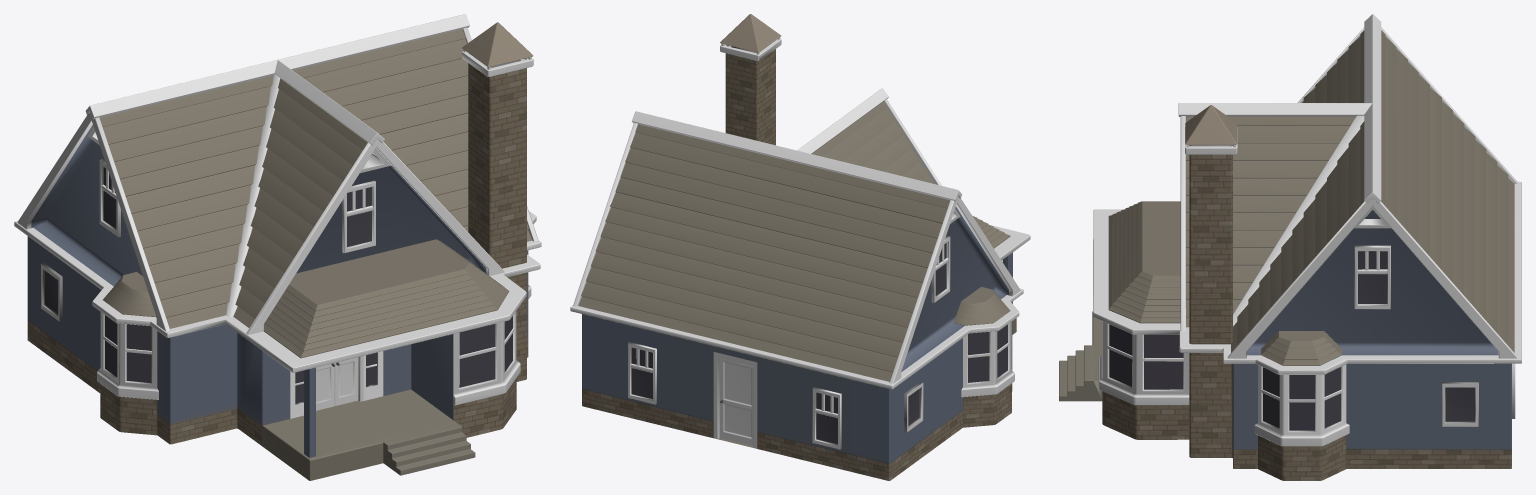
Rendered from residential-house.glb.
3 views of the same model, side by side, from view 1: azimuth 30°, elevation 25°; view 2: azimuth 150°, elevation 25°; view 3: azimuth 270°, elevation 25° (orthographic). The views are drawn at different scales.
Visible parts, largest first — view 1: residential_house.1; view 2: residential_house.1; view 3: residential_house.1.
Boxes of the visible parts, x1,y1,x2,y2 form: residential_house.1: (14, 14, 541, 480); residential_house.1: (570, 14, 1030, 480); residential_house.1: (1059, 14, 1521, 480).
Size of the model in its own units: 2.51 by 2.02 by 2.46.
Materials: 1 (1 with a texture image).
